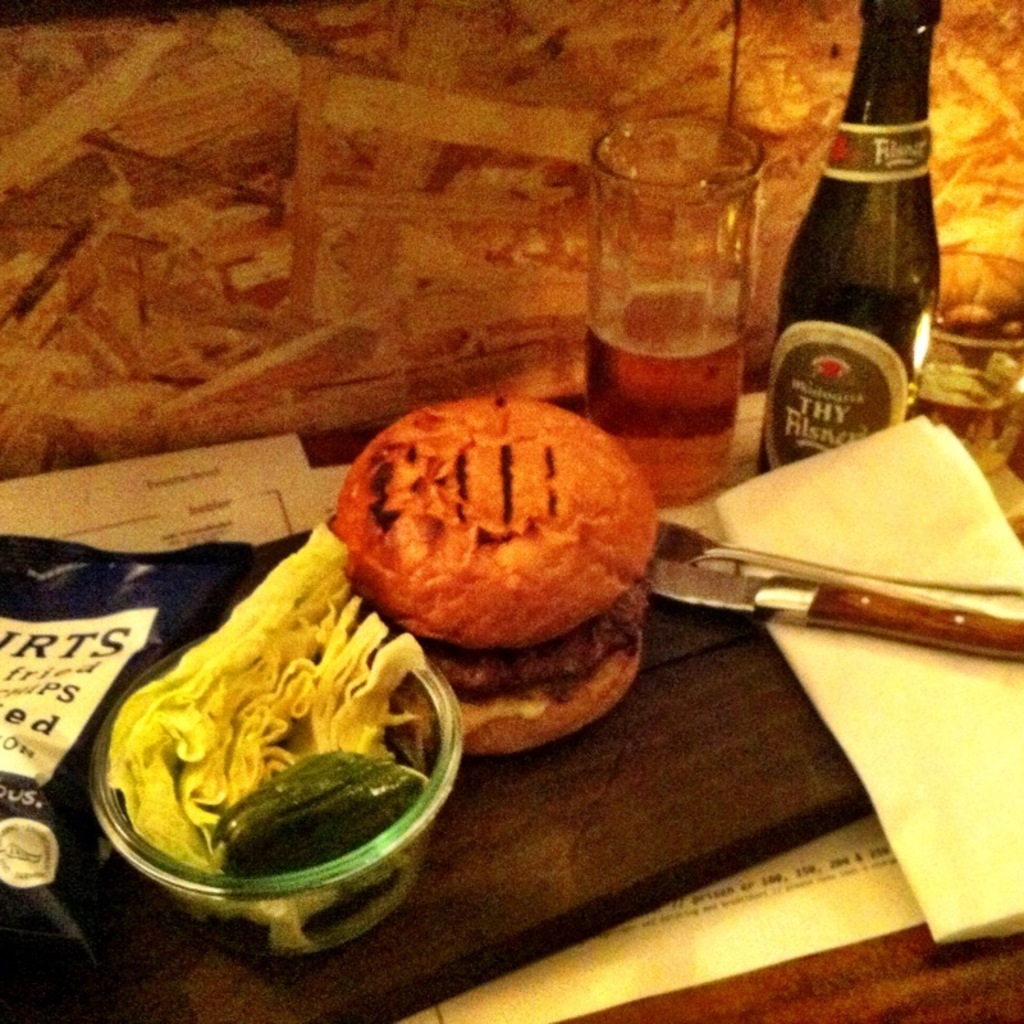Hamburger: (328, 387, 656, 760)
